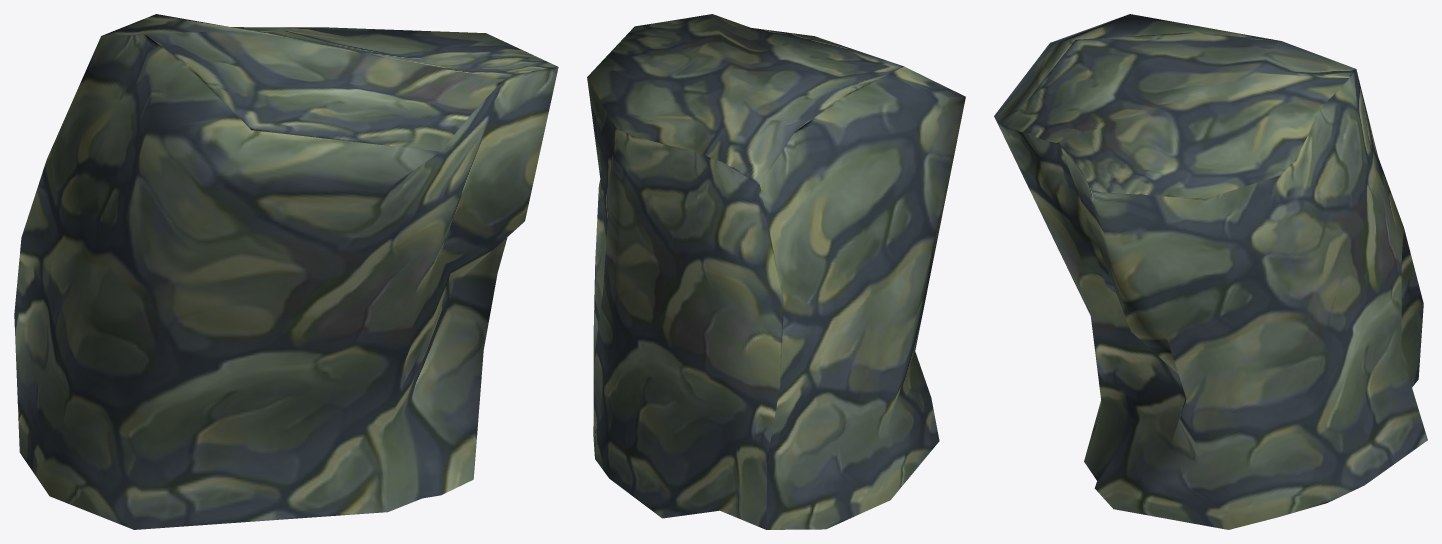
The model's file is stone_1.fbx.
The picture shows the model from 3 angles, left to right: view 1: azimuth 30°, elevation 25°; view 2: azimuth 150°, elevation 25°; view 3: azimuth 270°, elevation 25°; orthographic projection. The views are drawn at different scales.
Visible parts, largest first — view 1: Rock_8; view 2: Rock_8; view 3: Rock_8.
Part boxes in pixels (bbox=[...]): Rock_8: bbox=[14, 14, 558, 529]; Rock_8: bbox=[587, 14, 965, 529]; Rock_8: bbox=[994, 14, 1427, 529].
Size of the model in its own units: 8.42 by 8.61 by 8.92.
